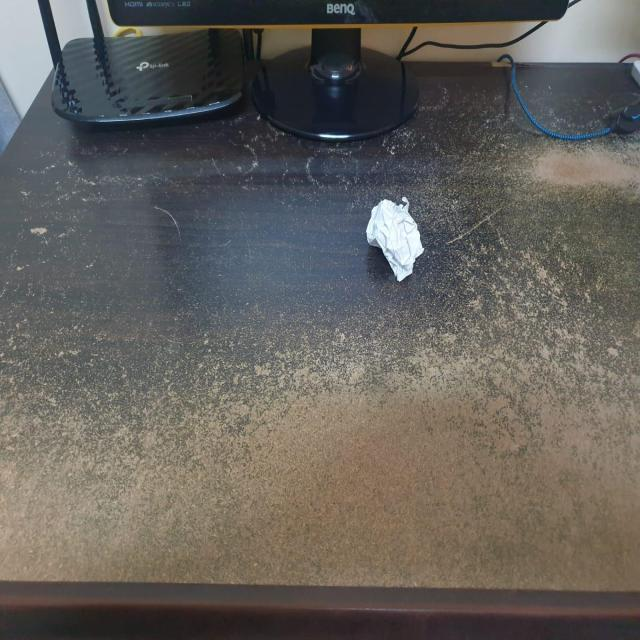paper: (370, 192, 430, 294)
